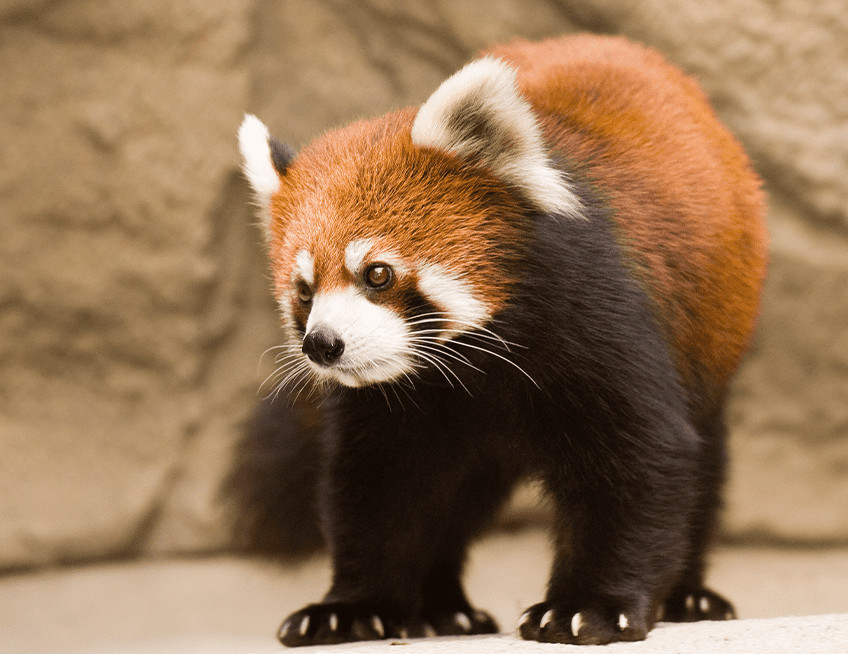Red panda: (230, 54, 570, 387)
